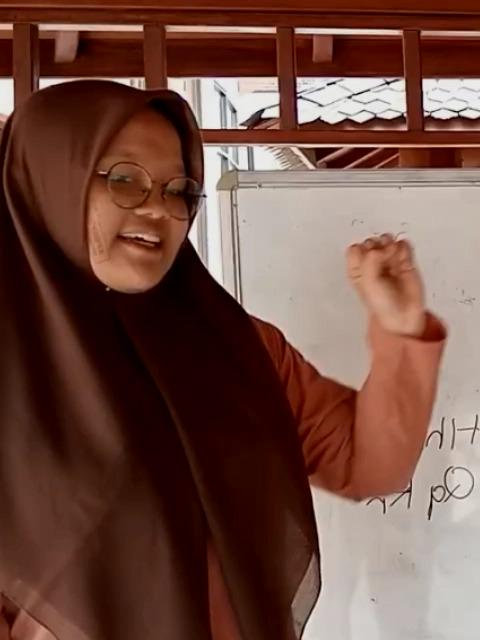S: (344, 232, 424, 314)
